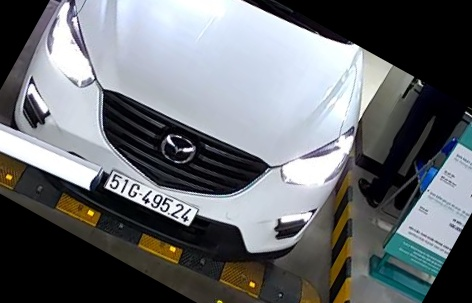plate: (102, 160, 198, 233)
